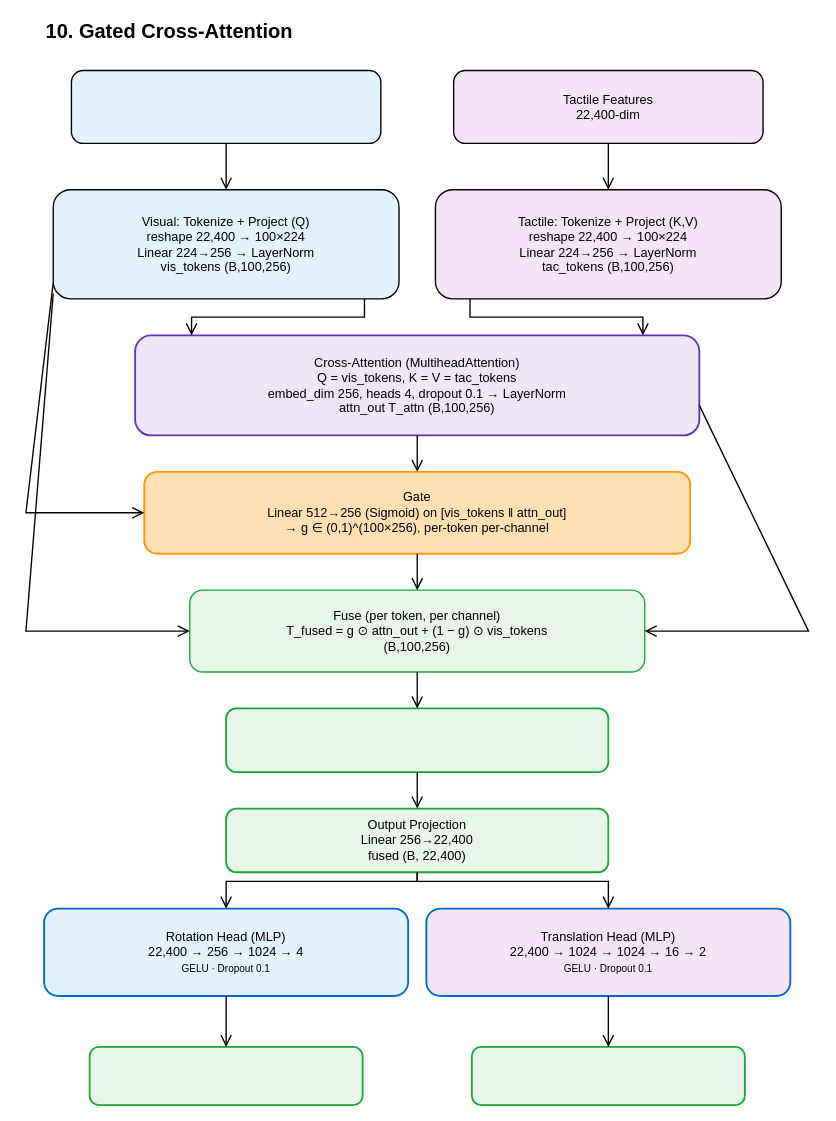
This 836x1121 diagram has some shape labels left out. The box of each missing label's shape, as (x1, y1, x2, y2) in pixels:
Global Average Pool (over 100 tokens) v_gca (B, 256): (225, 707, 609, 773)
Quaternion q L2-normalised, ℝ⁴: (88, 1046, 363, 1106)
RGB Features 22,400-dim: (70, 69, 381, 144)
Translation Vector [ y , z ] x fixed to 0: (470, 1046, 745, 1106)
